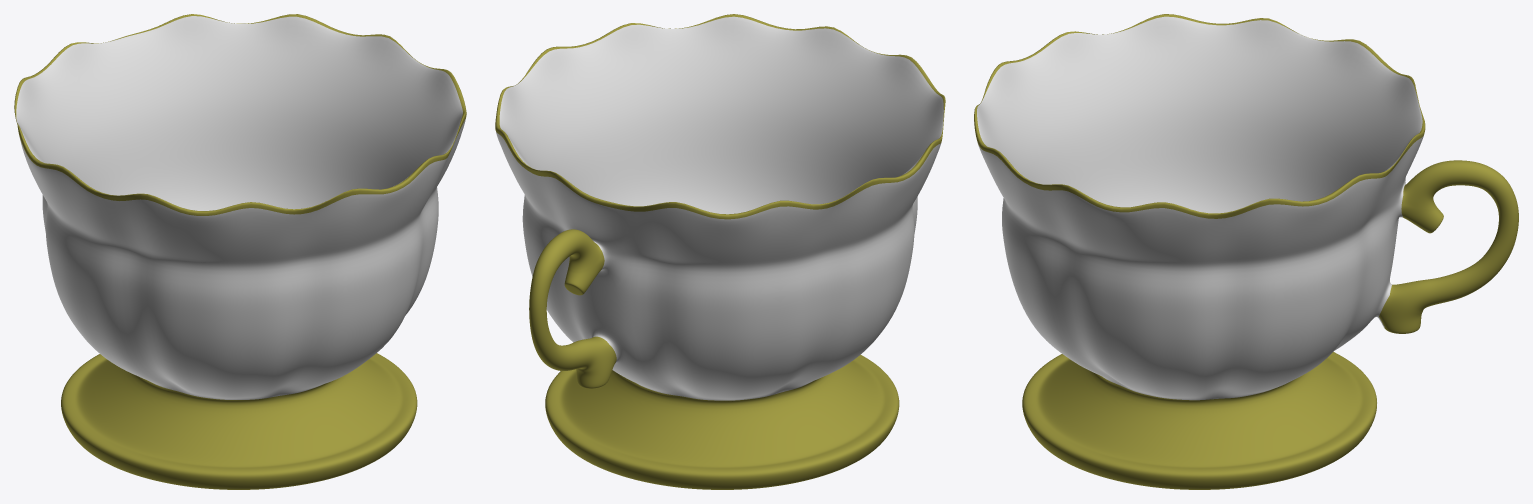
The model's file is teacup final model export v1.fbx.
The picture shows the model from 3 angles, left to right: view 1: azimuth 30°, elevation 25°; view 2: azimuth 150°, elevation 25°; view 3: azimuth 270°, elevation 25°; orthographic projection.
Visible parts, largest first — view 1: teacup; view 2: teacup; view 3: teacup.
Boxes of the visible parts, x1,y1,x2,y2 form: teacup: (14, 14, 466, 489); teacup: (495, 14, 945, 489); teacup: (974, 14, 1518, 489).
Bounding box in the file's own units: 3.37 × 2.55 × 4.05.
